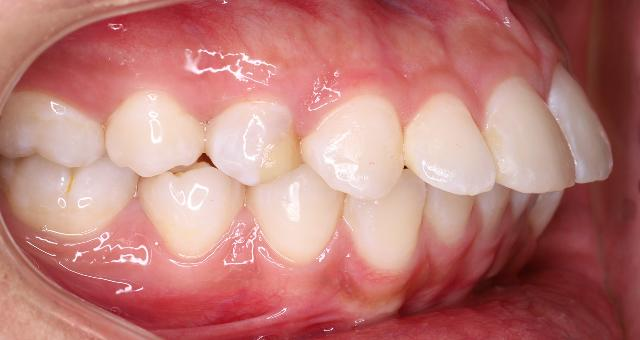canine class II 1/4: (246, 87, 429, 282)
molar class I: (0, 90, 140, 240)
